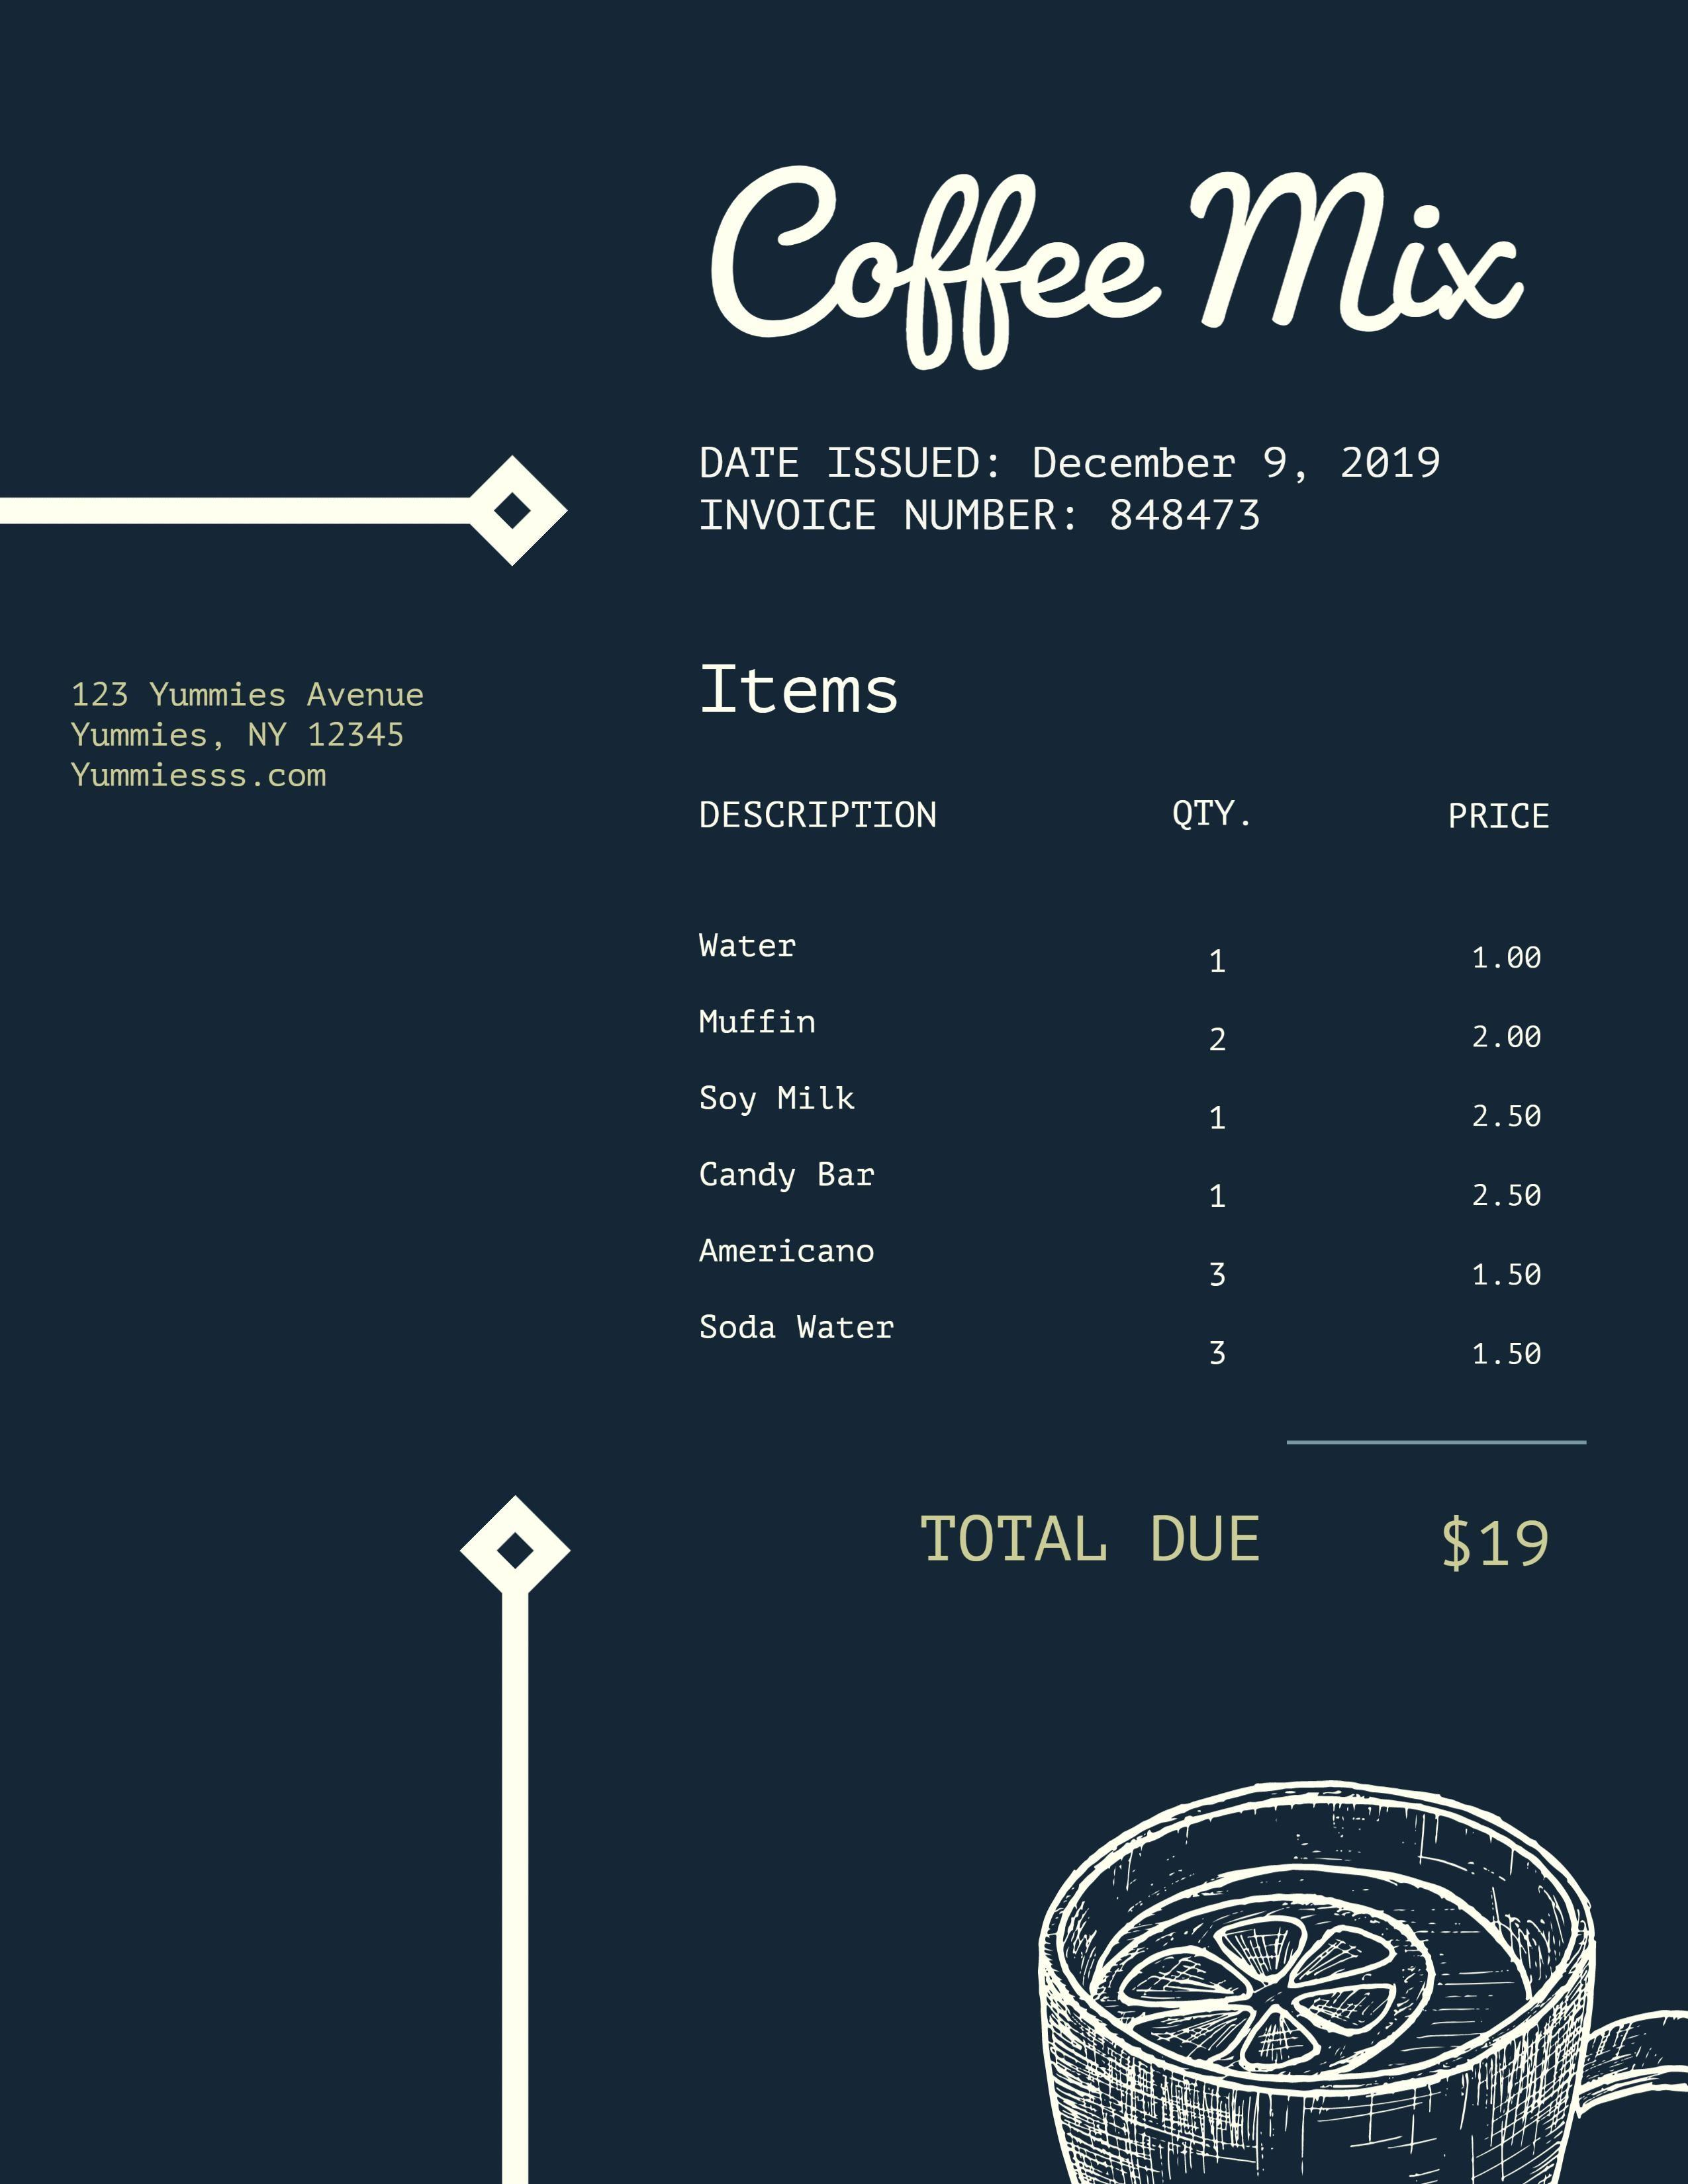ROI: (676, 638, 1590, 1408), (644, 121, 1553, 367), (688, 417, 1484, 562), (906, 1477, 1578, 1594), (55, 647, 477, 815)
